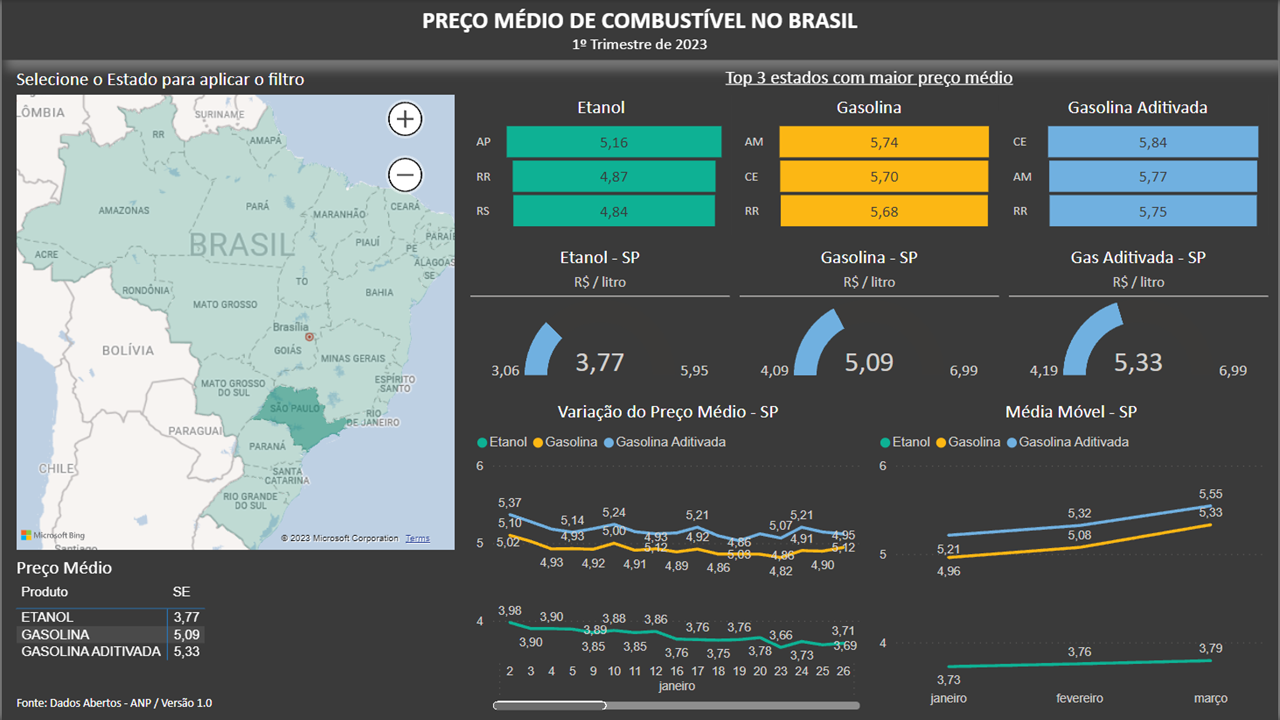

The page's visual inventory and layout, read from the dashboard file:
{"tool":"powerbi","page":{"name":"Preço Médio","canvas":[1280,720],"ordinal":0},"visuals":[{"type":"lineChart","fields":{"Category":["preco_tratado.Data_Coleta.Variation.Hierarquia de datas.Mês","preco_tratado.Data_Coleta.Variation.Hierarquia de datas.Dia"],"Y":["Medidas.MediaNacEtanol","Medidas.MediaNacGasComum","Medidas.MediaNacGasAdit"]},"box":[470.9,395,395,320],"z":0},{"type":"lineChart","fields":{"Y":["Medidas.Média móvel de MediaNacEtanol","Medidas.Média móvel de MediaNacGasComum","Medidas.Média móvel de MediaNacGasAdit"],"Category":["preco_tratado.Data_Coleta.Variation.Hierarquia de datas.Mês","preco_tratado.Data_Coleta.Variation.Hierarquia de datas.Dia"]},"box":[874.9,395,395.1,320],"z":1000},{"type":"filledMap","title":"Selecione o Estado para aplicar o filtro","fields":{"Category":["preco_tratado.Estado"]},"box":[10,65,450,490],"z":2000},{"type":"pivotTable","fields":{"Rows":["preco_tratado.Produto"],"Columns":["preco_tratado.Regiao"],"Values":["Medidas.MediaValorVenda"]},"box":[10,554.7,450,123.7],"z":3000},{"type":"funnel","title":"Gasolina ","fields":{"Category":["TOPMediaGas.Estado"],"Y":["Avg(TOPMediaGas.GAS)"]},"box":[740.2,95,260,140.1],"z":4000},{"type":"textbox","box":[0,0,1280,60],"z":5000},{"type":"funnel","title":"Gasolina Aditivada","fields":{"Category":["TOPMediaGasAdit.Estado"],"Y":["Avg(TOPMediaGasAdit.GAS_ADIT)"]},"box":[1009.6,95,260.7,140.1],"z":6000},{"type":"funnel","title":"Etanol","fields":{"Category":["TOPMediaEtanol.Estado"],"Y":["Avg(TOPMediaEtanol.ETANOL)"]},"box":[470.8,95,260.7,140.1],"z":7000},{"type":"textbox","title":"Top 3 estados com maior preço médio","box":[470.2,65,800.1,30],"z":8000},{"type":"textbox","box":[10,690,225.5,25.9],"z":9000},{"type":"textbox","box":[470,245.1,260,52],"z":10000},{"type":"gauge","fields":{"Y":["Medidas.MediaNacEtanol"],"MinValue":["Medidas.MinMediaNacEtanol"],"MaxValue":["Medidas.MaxMediaNacEtanol"]},"box":[470,297.6,259.7,87.5],"z":11000},{"type":"textbox","box":[740,245,260,52],"z":12000},{"type":"gauge","fields":{"Y":["Medidas.MediaNacGasComum"],"MinValue":["Medidas.MinMediaNacGas"],"MaxValue":["Medidas.MaxMediaNacGas"]},"box":[740,297,259.7,87.5],"z":13000},{"type":"textbox","box":[1010.7,245,260,52],"z":14000},{"type":"gauge","fields":{"Y":["Medidas.MediaNacGasAdit"],"MinValue":["Medidas.MinMediaNacGasAdt"],"MaxValue":["Medidas.MaxMediaNacGasAdt"]},"box":[1010.7,297,259.7,87.5],"z":15000}]}

Visuals, with their boxes in screenshot pixels (x1, y1, x2, y2), scaled from the page's 1280x720 canvas onto the 1280x720 screenshot:
lineChart - preco_tratado.Data_Coleta.Variation.Hierarquia de datas.Mês x preco_tratado.Data_Coleta.Variation.Hierarquia de datas.Dia: 471/395/866/715
lineChart - Medidas.Média móvel de MediaNacEtanol x Medidas.Média móvel de MediaNacGasComum: 875/395/1270/715
"Selecione o Estado para aplicar o filtro" filledMap: 10/65/460/555
pivotTable - preco_tratado.Produto x preco_tratado.Regiao: 10/555/460/678
"Gasolina " funnel: 740/95/1000/235
textbox: 0/0/1279/60
"Gasolina Aditivada" funnel: 1010/95/1270/235
"Etanol" funnel: 471/95/732/235
"Top 3 estados com maior preço médio" textbox: 470/65/1270/95
textbox: 10/690/236/716
textbox: 470/245/730/297
gauge - Medidas.MediaNacEtanol x Medidas.MinMediaNacEtanol: 470/298/730/385
textbox: 740/245/1000/297
gauge - Medidas.MediaNacGasComum x Medidas.MinMediaNacGas: 740/297/1000/384
textbox: 1011/245/1271/297
gauge - Medidas.MediaNacGasAdit x Medidas.MinMediaNacGasAdt: 1011/297/1270/384
